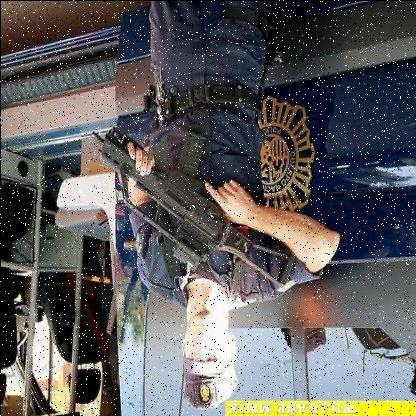rifle: (82, 119, 304, 300)
